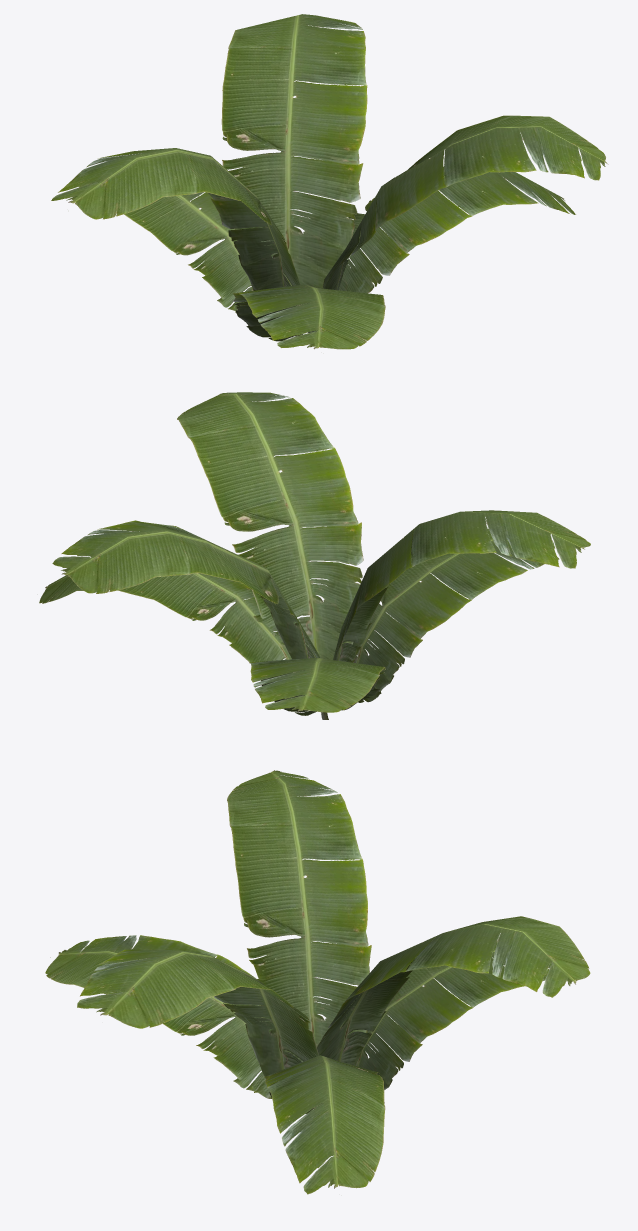
Rendered from heliconia.glb.
3 renders of one model, top to bottom at view 1: azimuth 30°, elevation 25°; view 2: azimuth 150°, elevation 25°; view 3: azimuth 270°, elevation 25°, orthographic. The views are drawn at different scales.
Visible parts, largest first — view 1: cerca; view 2: cerca; view 3: cerca.
Part boxes in pixels (box(x1,y1,x2,y2)): cerca: box(51, 14, 608, 349); cerca: box(39, 392, 590, 719); cerca: box(45, 770, 590, 1194).
Bounding box in the file's own units: 4.37 × 1.8 × 3.99.
Materials: 1 (1 with a texture image).
